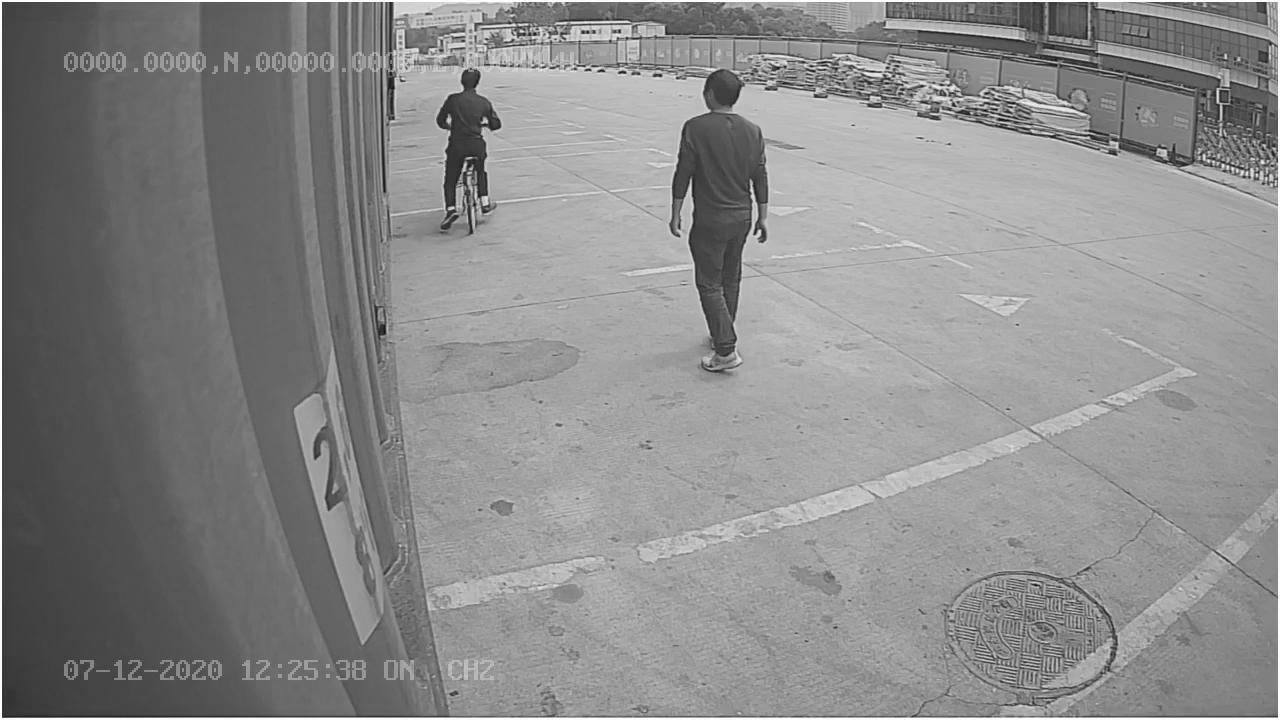person: (661, 65, 777, 378)
